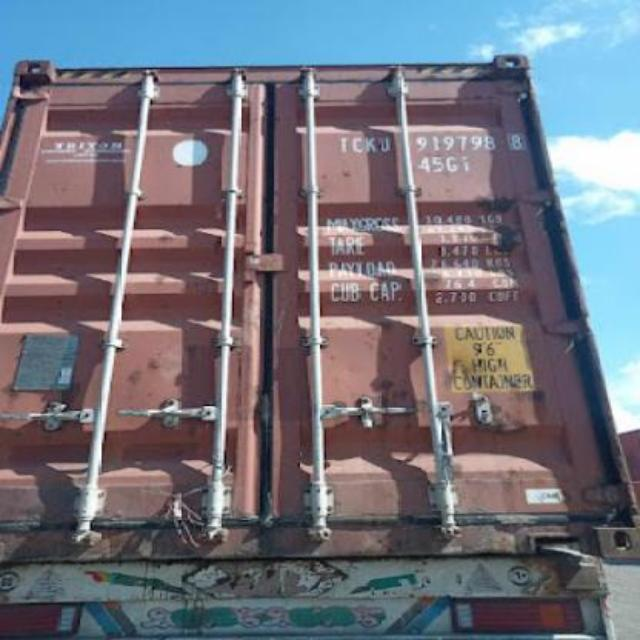1: (430, 127, 442, 153)
7: (454, 128, 470, 152)
8: (506, 128, 526, 150), (480, 127, 496, 153)
9: (412, 128, 428, 152), (444, 122, 456, 154), (468, 129, 480, 155)
C: (348, 128, 364, 156)
K: (362, 128, 376, 156)
T: (334, 128, 350, 156)
U: (378, 128, 394, 156)
